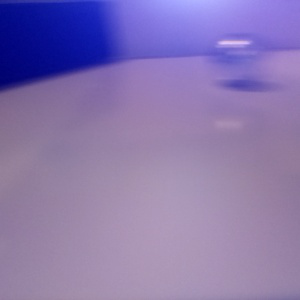alive_ball: (206, 34, 268, 83)
